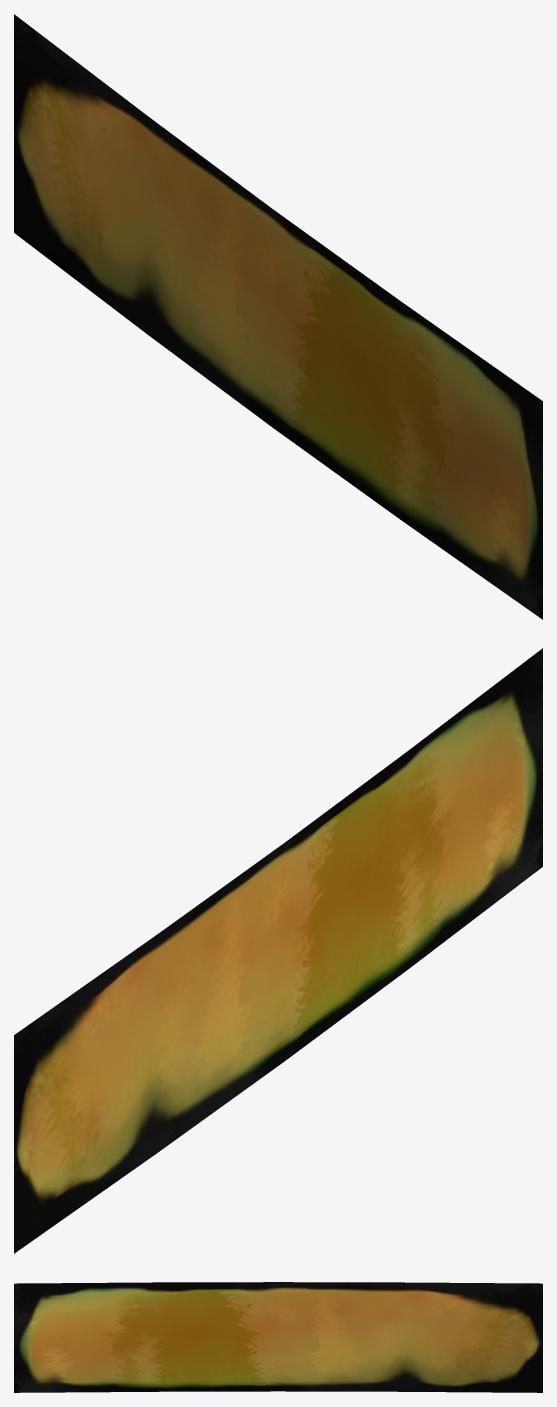
File: Cloud04_Art.fbx
The picture shows the model from 3 angles, top to bottom: view 1: azimuth 30°, elevation 25°; view 2: azimuth 150°, elevation 25°; view 3: azimuth 270°, elevation 25°; orthographic projection. The views are drawn at different scales.
Visible parts, largest first — view 1: Cloud04_Art; view 2: Cloud04_Art; view 3: Cloud04_Art.
Boxes of the visible parts, x1,y1,x2,y2 form: Cloud04_Art: (14,14,542,619); Cloud04_Art: (14,648,542,1253); Cloud04_Art: (14,1282,542,1392).
Bounding box in the file's own units: 0.0565 × 1.27 × 5.55.
